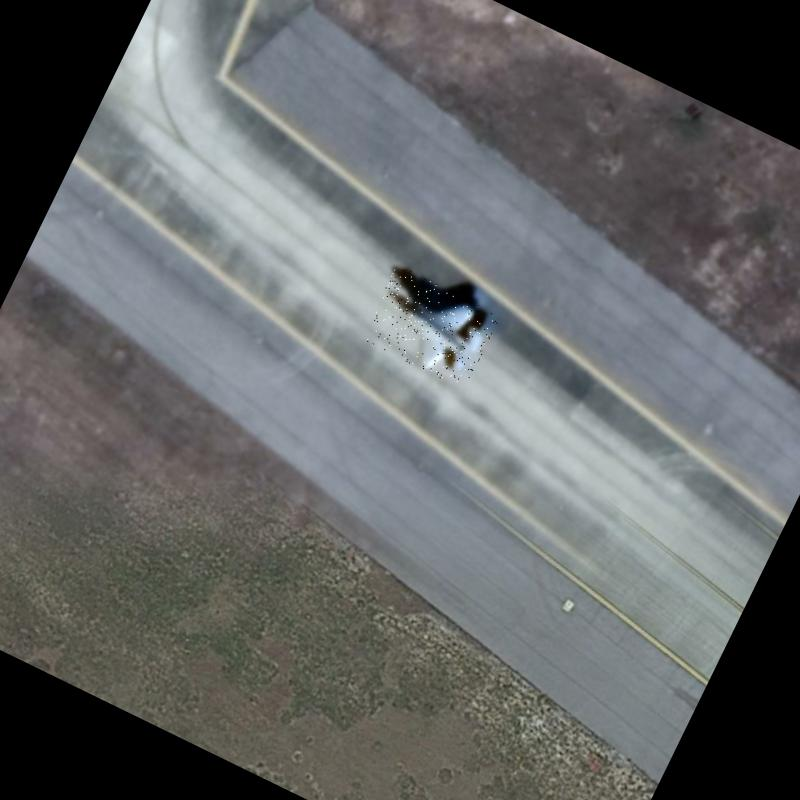A15: (360, 264, 500, 390)
